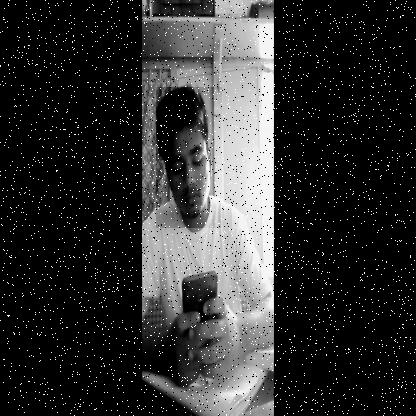Normal: (156, 87, 222, 228)
